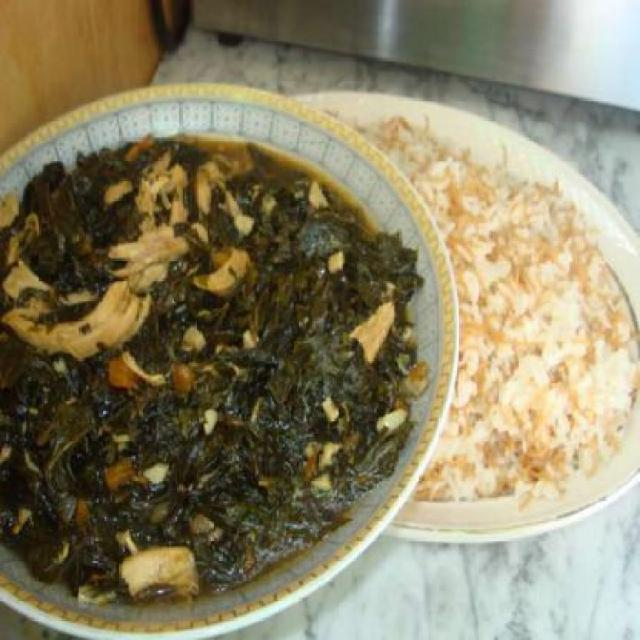fried rice: (382, 116, 640, 512)
molokhia: (3, 130, 415, 604)
